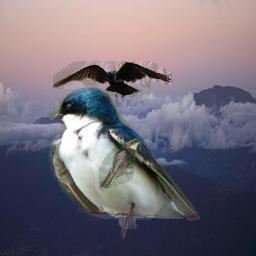Crow: (53, 61, 172, 102)
Cuckoo: (99, 139, 142, 189)
Swallow: (48, 85, 200, 240)
